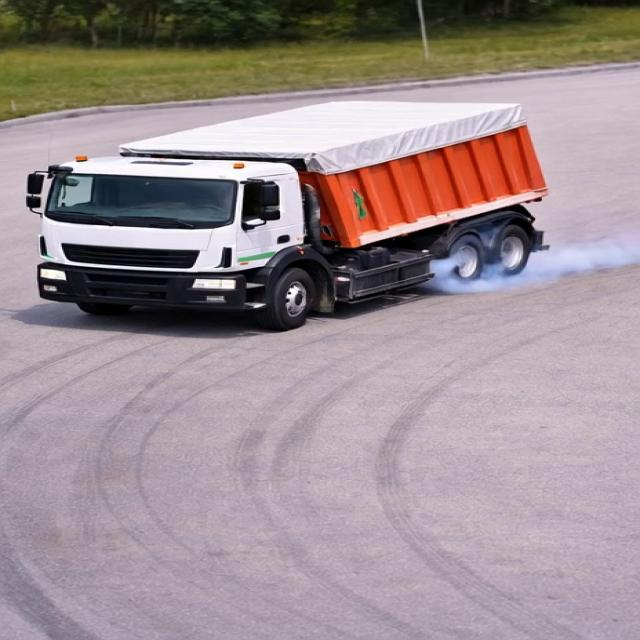Box: (115, 100, 538, 153)
Truck: (24, 78, 588, 333)
